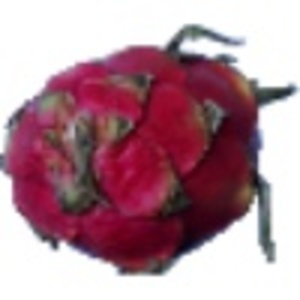pitaia: (1, 24, 300, 277)
